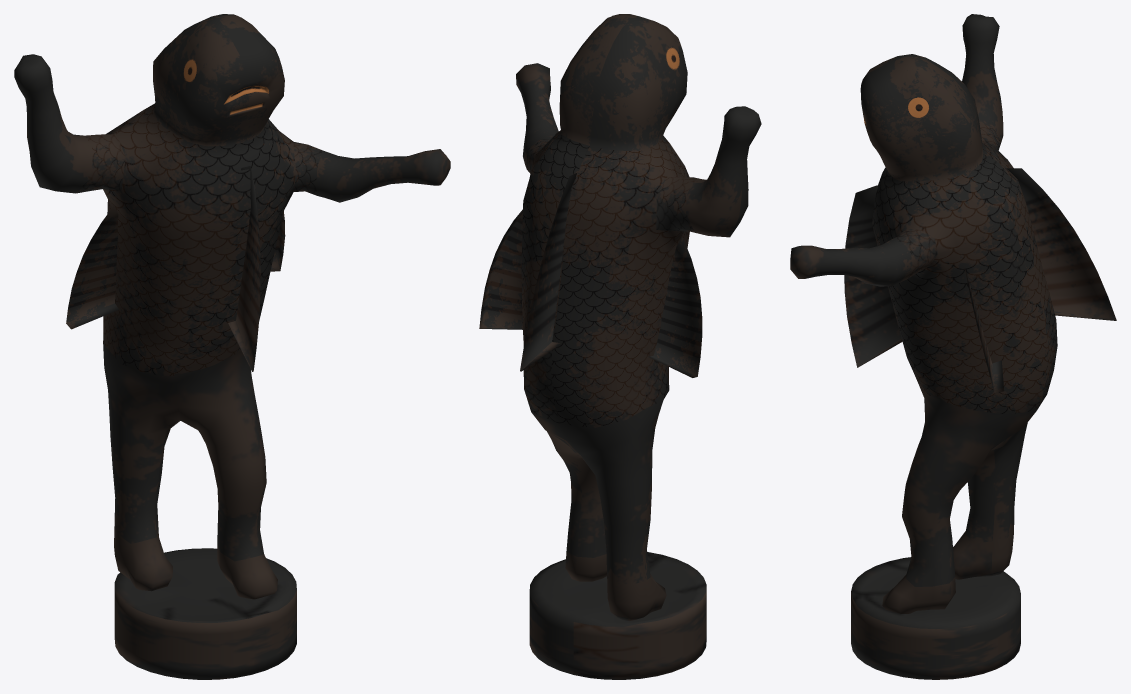
File: Homme_poisson.fbx
The picture shows the model from 3 angles, left to right: view 1: azimuth 30°, elevation 25°; view 2: azimuth 150°, elevation 25°; view 3: azimuth 270°, elevation 25°; orthographic projection. The views are drawn at different scales.
Parts seen in each view (by area): view 1: Cylinder; view 2: Cylinder; view 3: Cylinder.
Part boxes in pixels (<box>): Cylinder: <box>14,14,450,679</box>; Cylinder: <box>479,14,761,679</box>; Cylinder: <box>790,14,1116,679</box>.
Size of the model in its own units: 2.24 by 4 by 2.01.
Materials: 1 (1 with a texture image).
